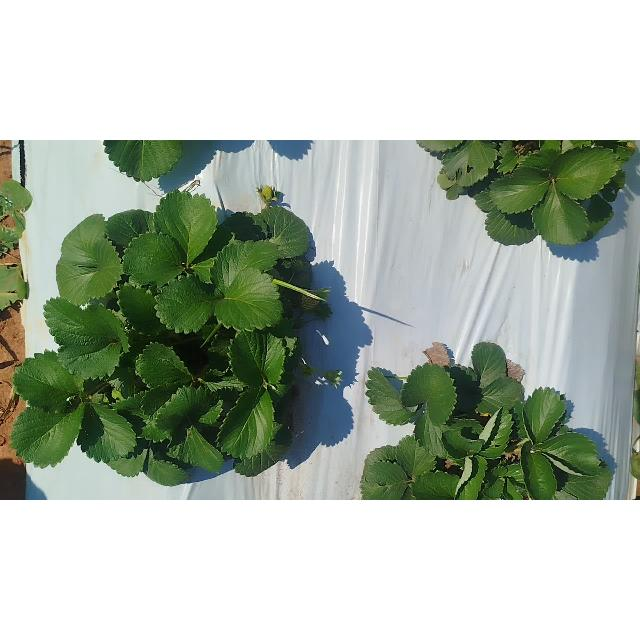no-maduro: (262, 186, 272, 198)
